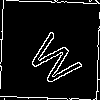W: (24, 24, 90, 90)
